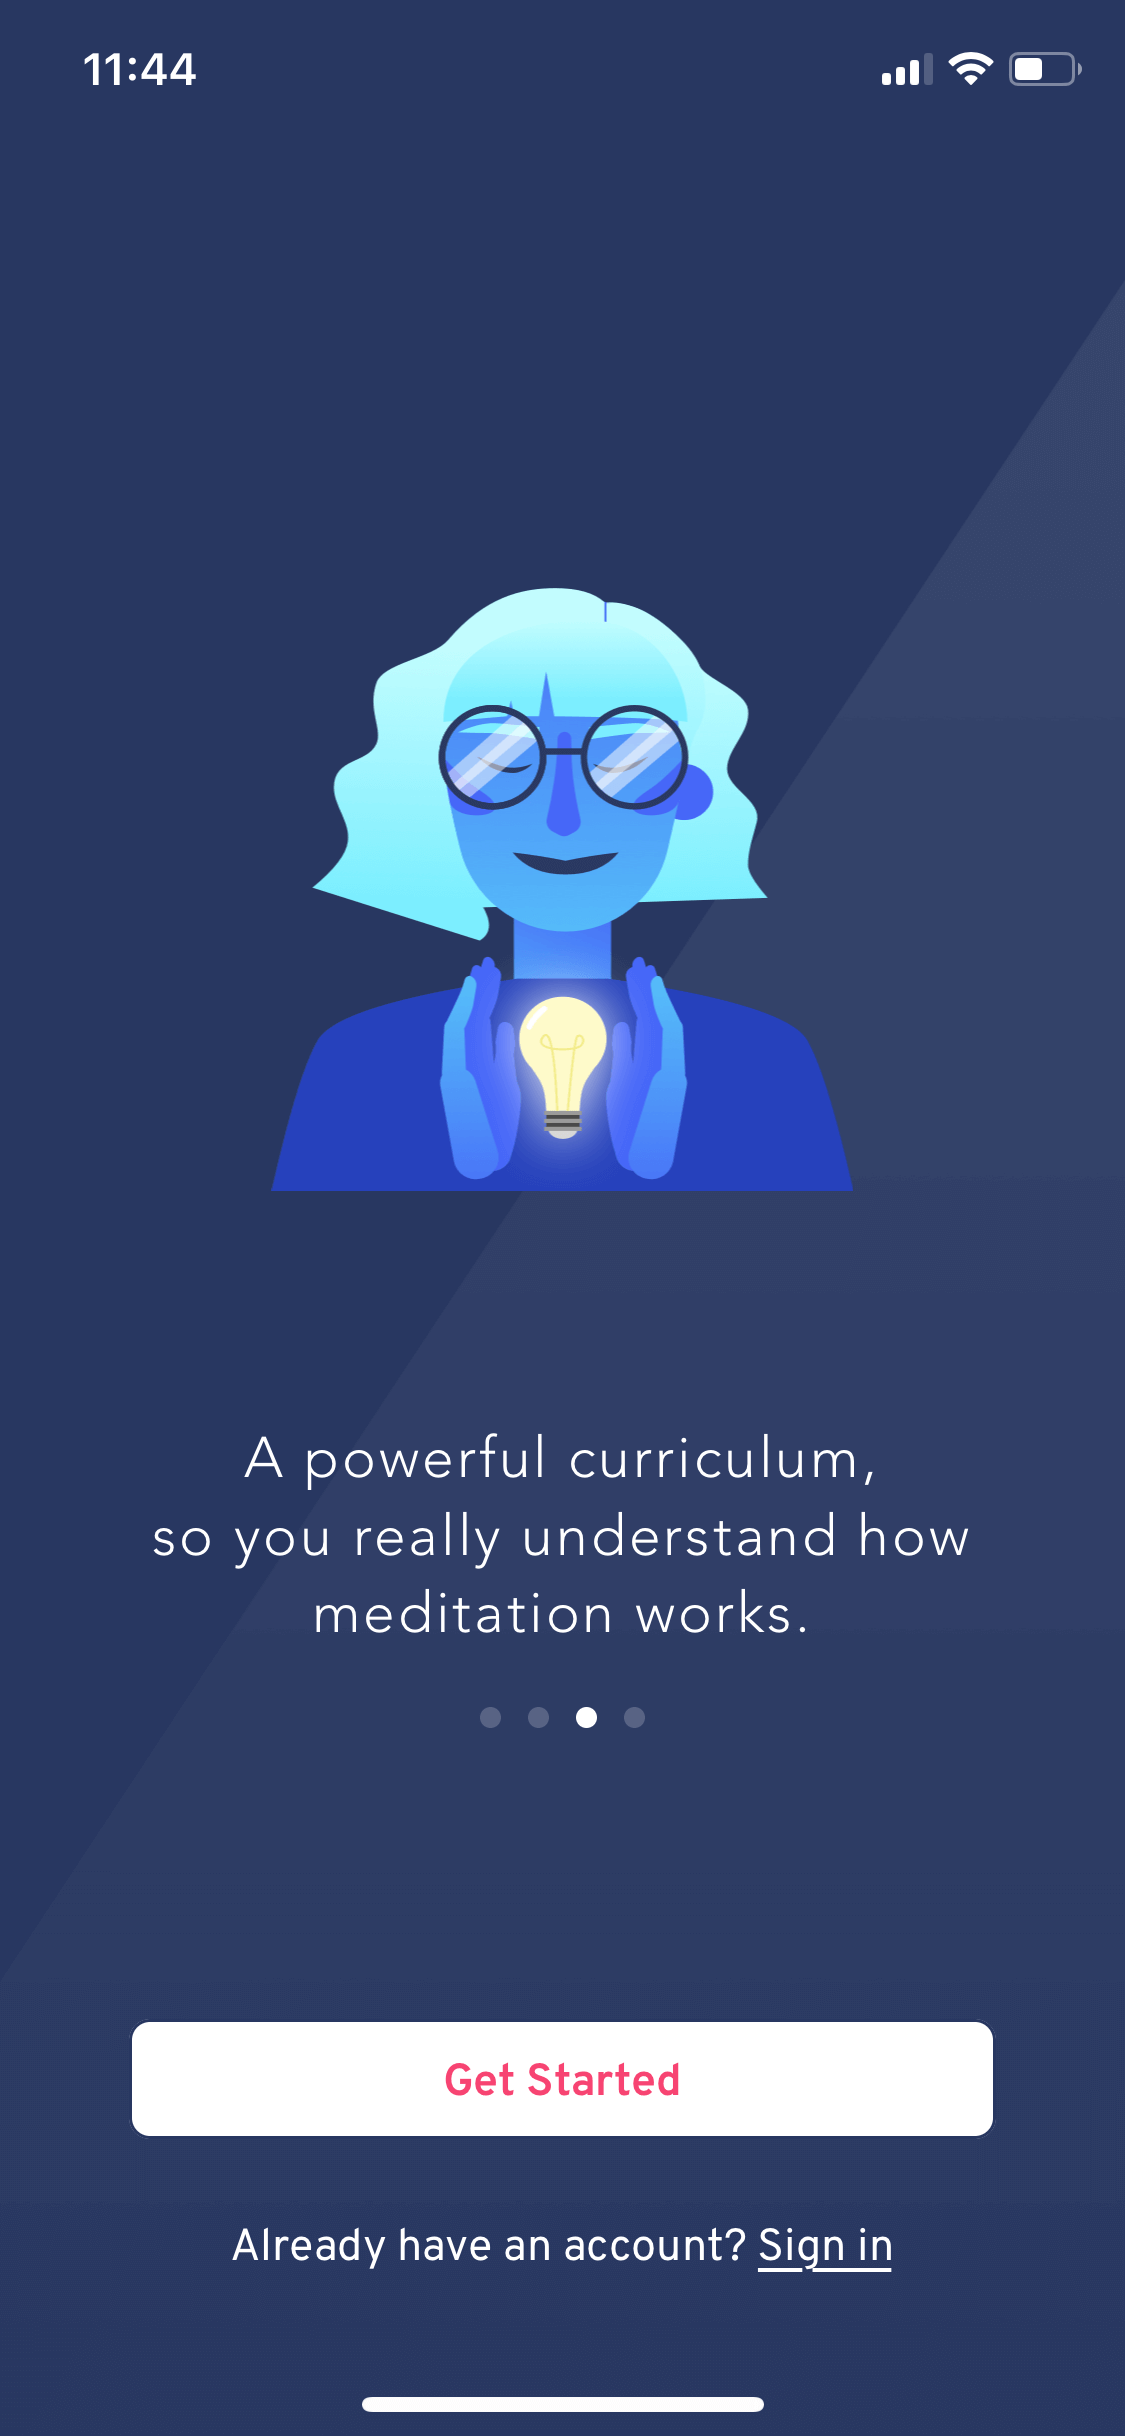Buttons: (121, 1992, 1012, 2156)
Page Controls: (432, 1670, 685, 1763)
